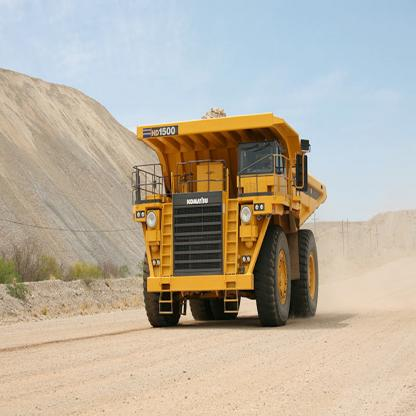dump_truck: (129, 103, 331, 328)
